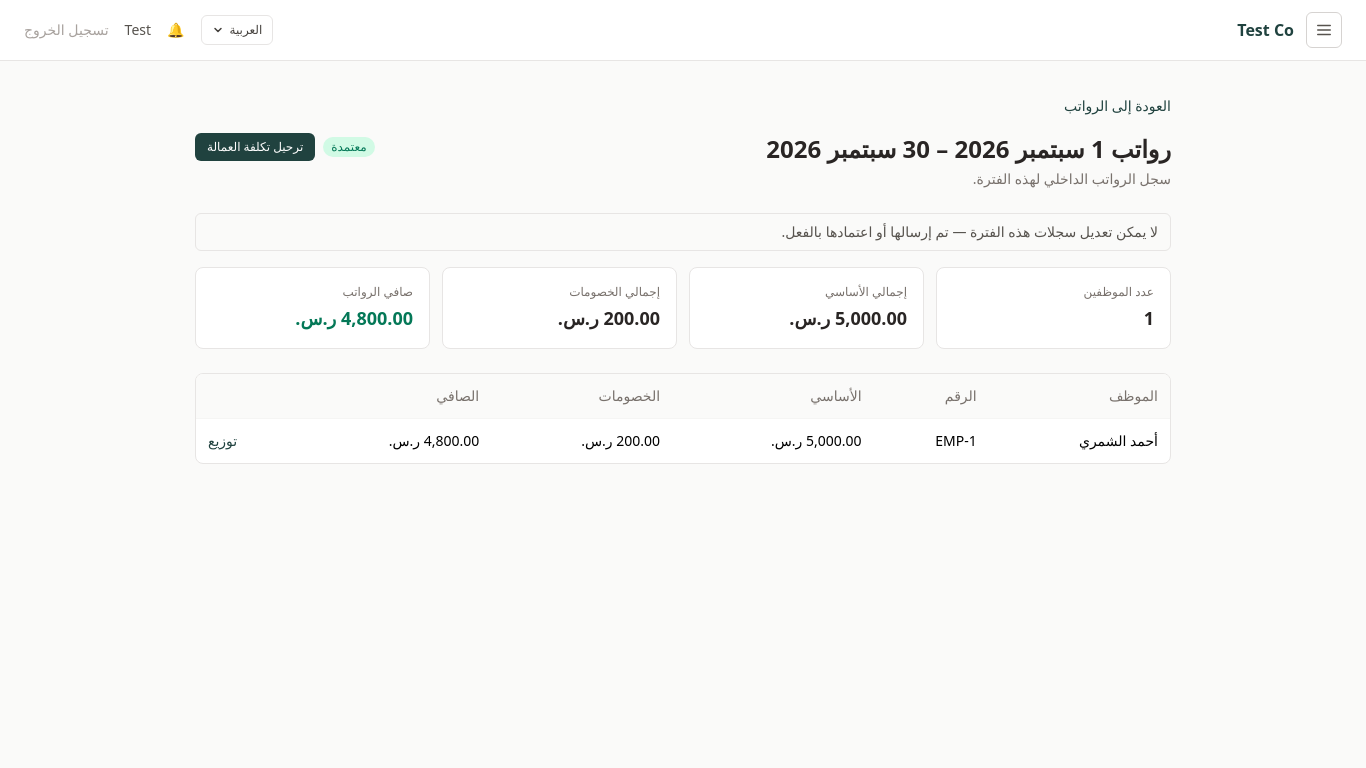
Test: <PayrollPeriodDetail/> › opening the posting action shows a pre-confirmation preview (allocation count, total, unallocated, projects) before anything is posted
Click the button "ترحيل تكلفة العمالة" at (255, 147), box left=195, top=133, right=315, bottom=161
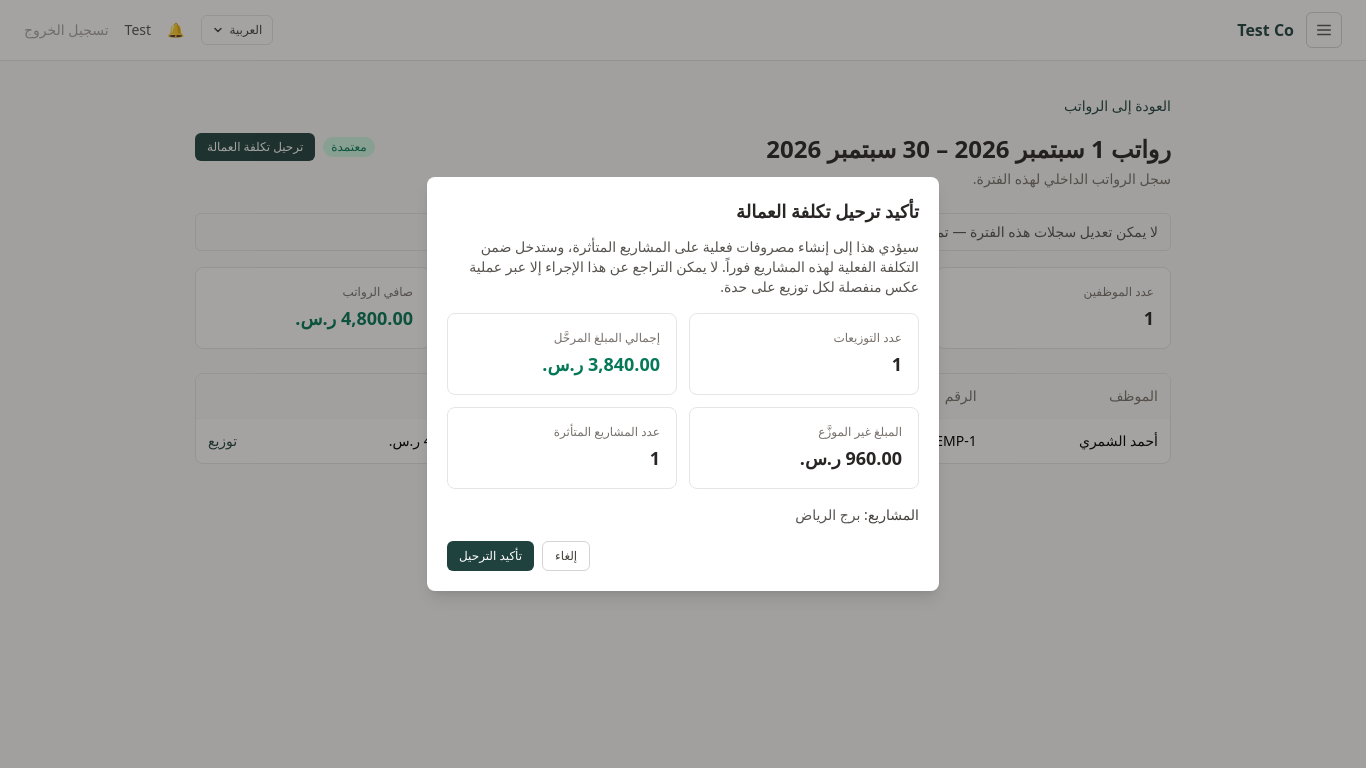
expect the heading "تأكيد ترحيل تكلفة العمالة" is shown: met, box left=736, top=199, right=919, bottom=223
expect the text "برج الرياض" is shown: met, box left=795, top=505, right=860, bottom=524
expect the button "تأكيد الترحيل" is shown: met, box left=447, top=541, right=534, bottom=571
